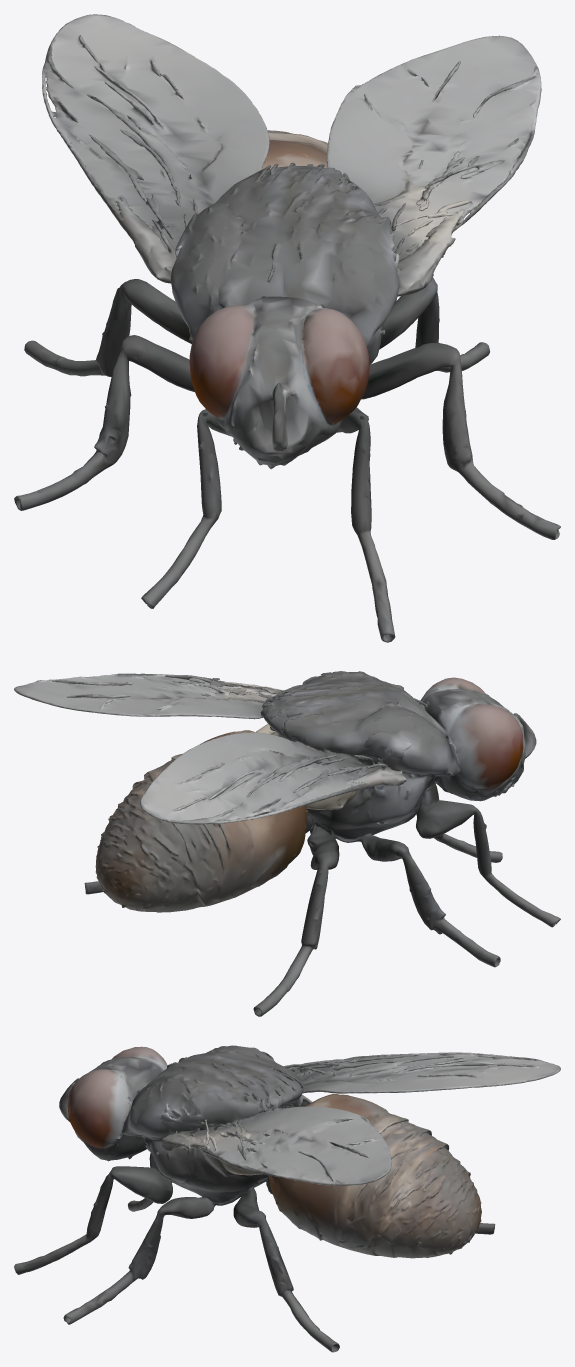
The model's file is housefly.glb.
The picture shows the model from 3 angles, top to bottom: view 1: azimuth 30°, elevation 25°; view 2: azimuth 150°, elevation 25°; view 3: azimuth 270°, elevation 25°; orthographic projection. The views are drawn at different scales.
Bounding box in the file's own units: 0.8529 × 0.4697 × 0.9999.
